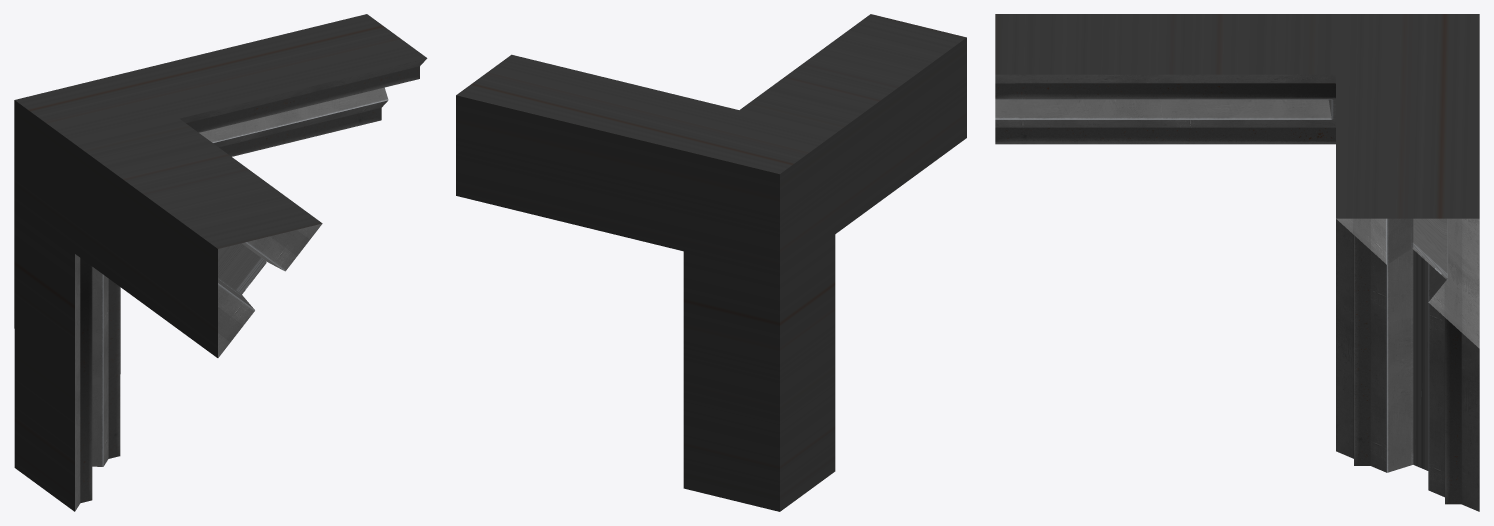
The model's file is Atype_Frame_end_3.fbx.
3 renders of one model, left to right at view 1: azimuth 30°, elevation 25°; view 2: azimuth 150°, elevation 25°; view 3: azimuth 270°, elevation 25°, orthographic. The views are drawn at different scales.
Parts seen in each view (by area): view 1: AFrame_end_003; view 2: AFrame_end_003; view 3: AFrame_end_003, cain.
Part boxes in pixels (box(x1,y1,x2,y2)): AFrame_end_003: box(14, 14, 427, 511); AFrame_end_003: box(456, 14, 966, 511); AFrame_end_003: box(995, 14, 1479, 511); cain: box(1412, 219, 1448, 470).
Bounding box in the file's own units: 100 × 99.98 × 100.
Materials: 1 (1 with a texture image).
